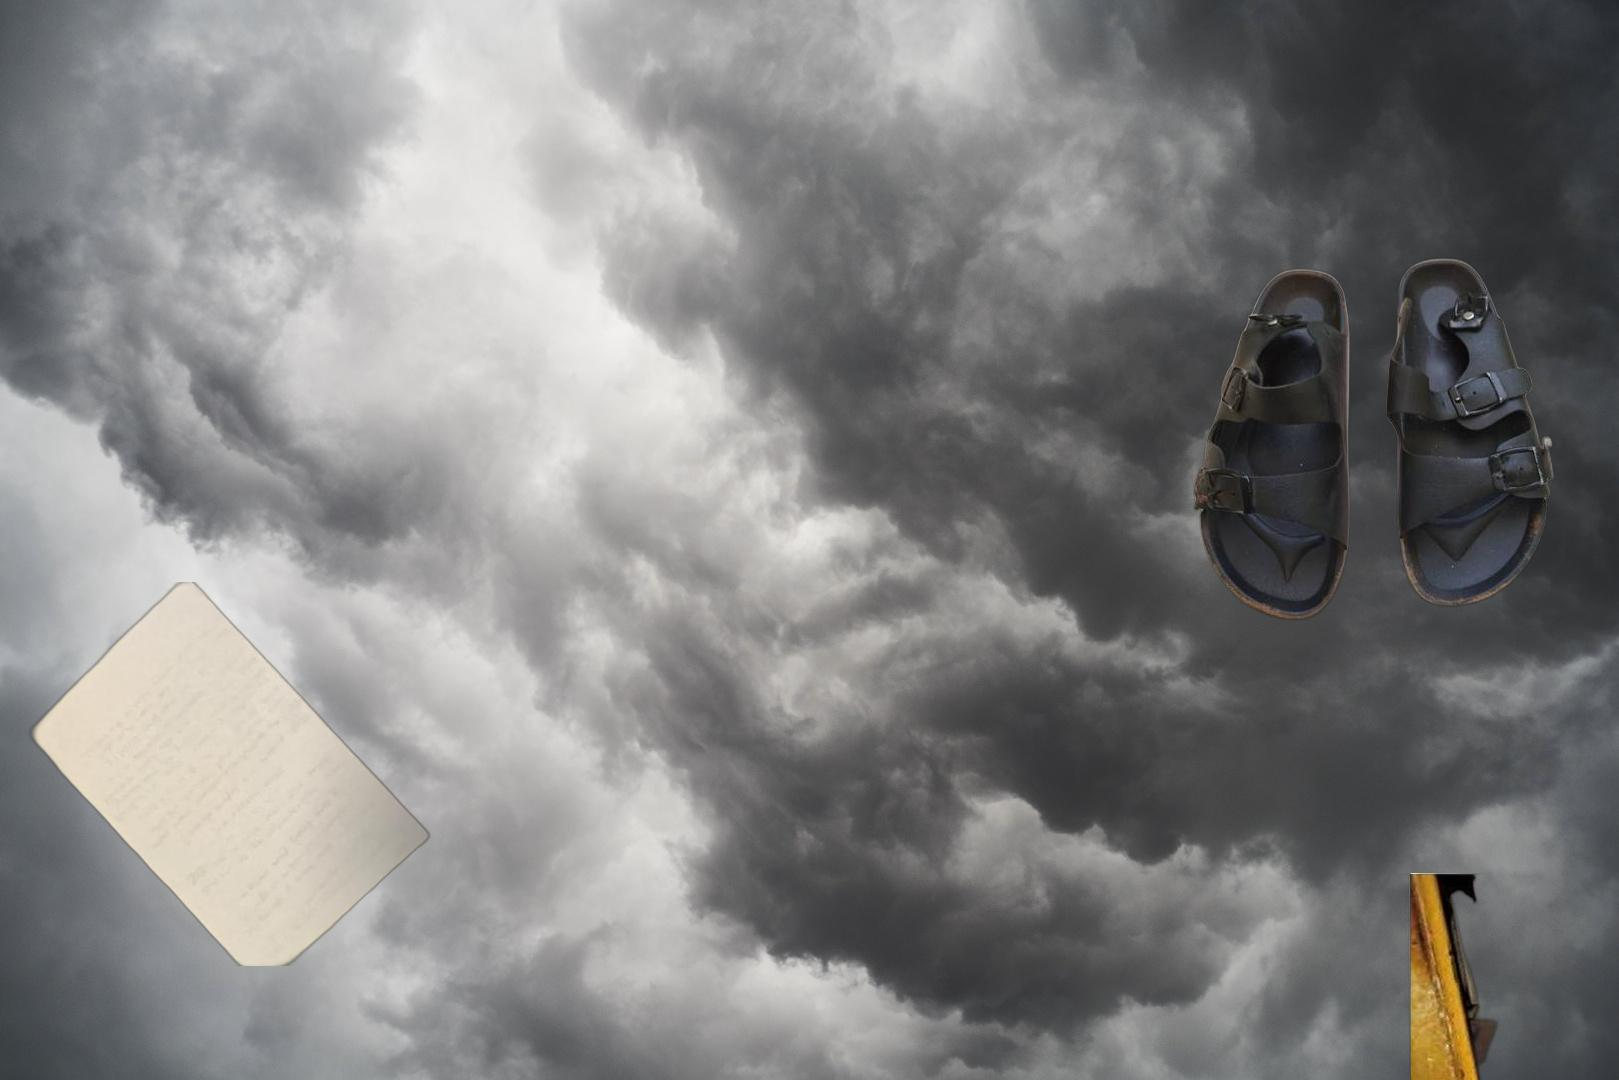biological: (1404, 873, 1619, 1080)
paper: (27, 582, 433, 965)
shoes: (1191, 254, 1556, 626)
